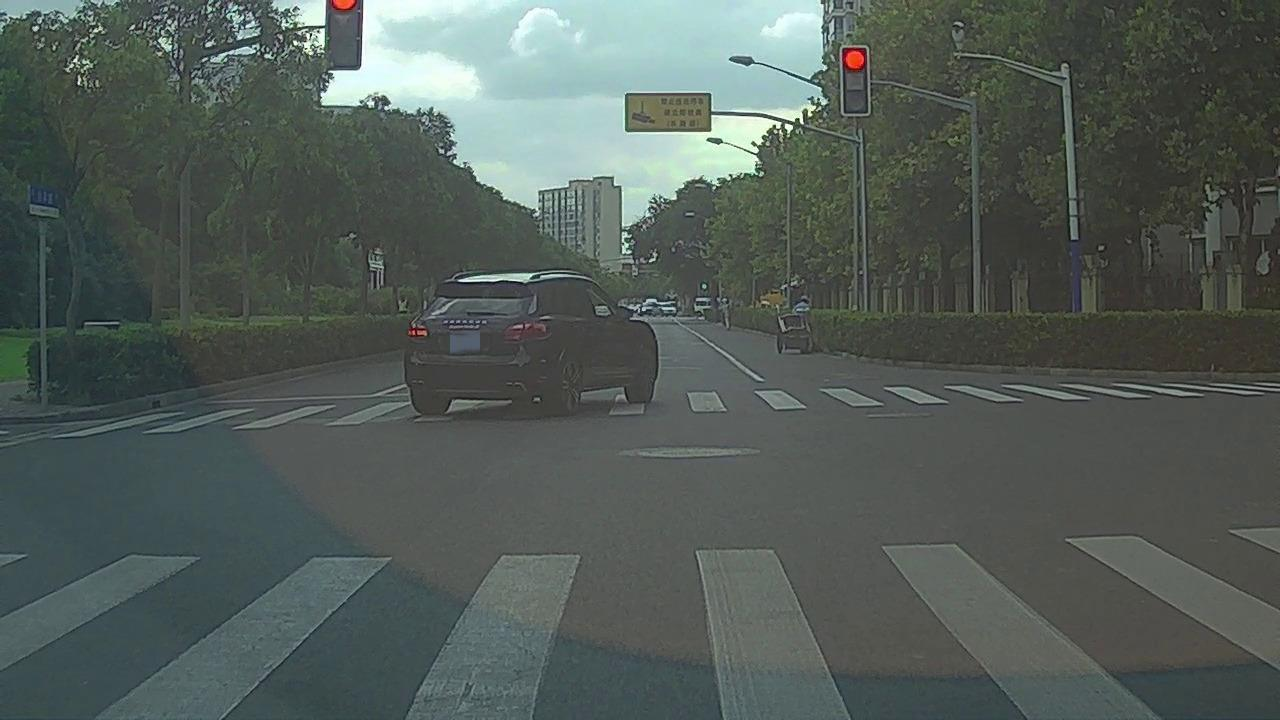traffic_light: (327, 1, 359, 68), (842, 48, 868, 113)
